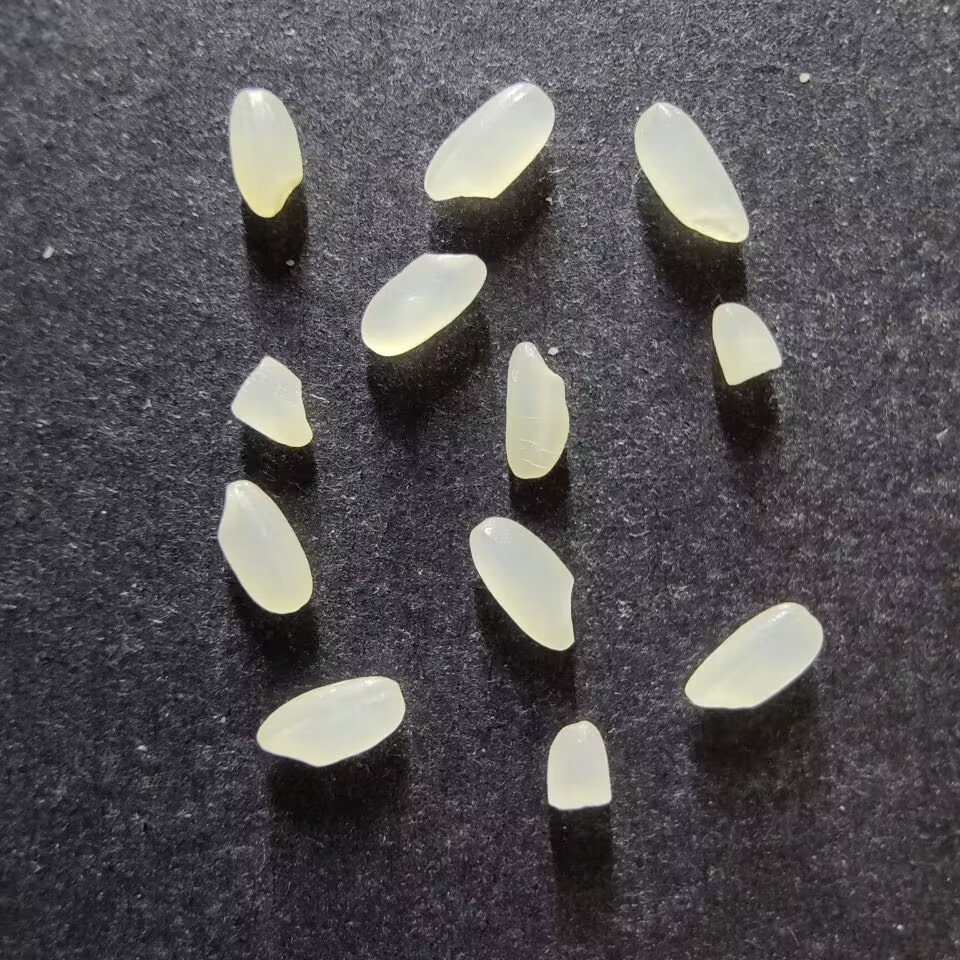broken: (230, 355, 314, 449), (545, 719, 612, 811), (711, 302, 783, 387)
rice: (633, 102, 749, 242), (423, 81, 555, 201), (683, 603, 823, 709), (468, 515, 577, 651), (255, 674, 405, 768), (360, 252, 486, 357), (217, 479, 313, 614), (227, 88, 303, 219), (503, 341, 569, 479)
